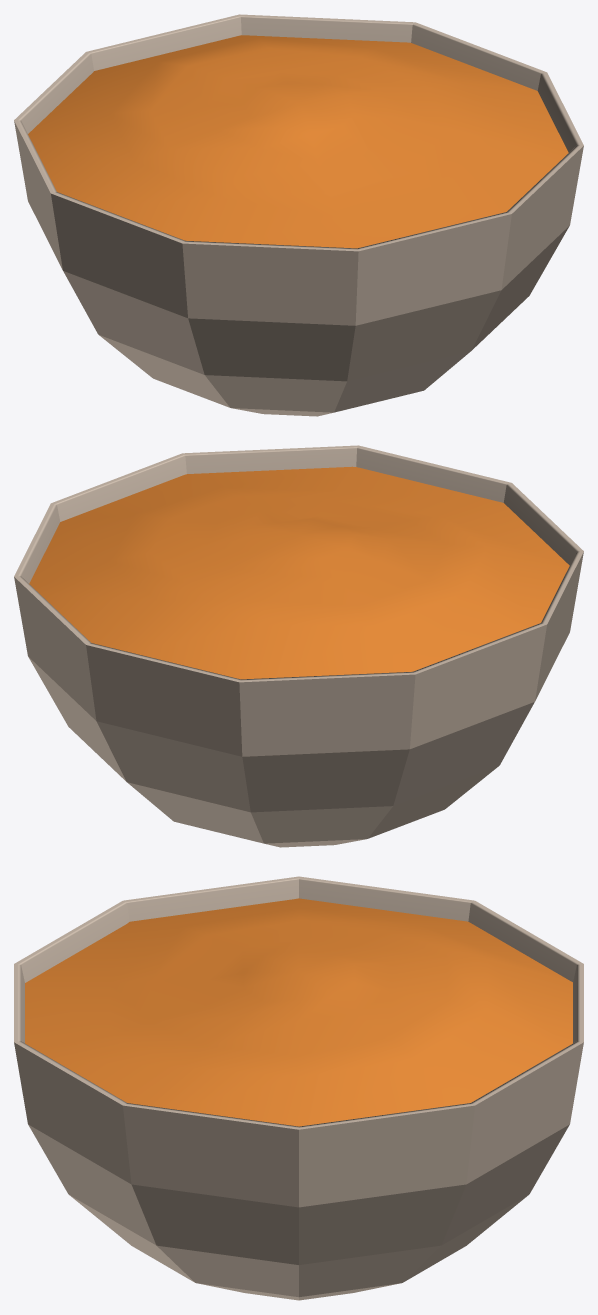
File: RedSpice.fbx
3 views of the same model, one above another, from view 1: azimuth 30°, elevation 25°; view 2: azimuth 150°, elevation 25°; view 3: azimuth 270°, elevation 25° (orthographic). The views are drawn at different scales.
Visible parts, largest first — view 1: RedSpice; view 2: RedSpice; view 3: RedSpice.
Boxes of the visible parts, bbox=[...] form: RedSpice: bbox=[14, 14, 583, 416]; RedSpice: bbox=[14, 445, 583, 847]; RedSpice: bbox=[14, 876, 583, 1300].
Size of the model in its own units: 50 by 27.84 by 47.55.
